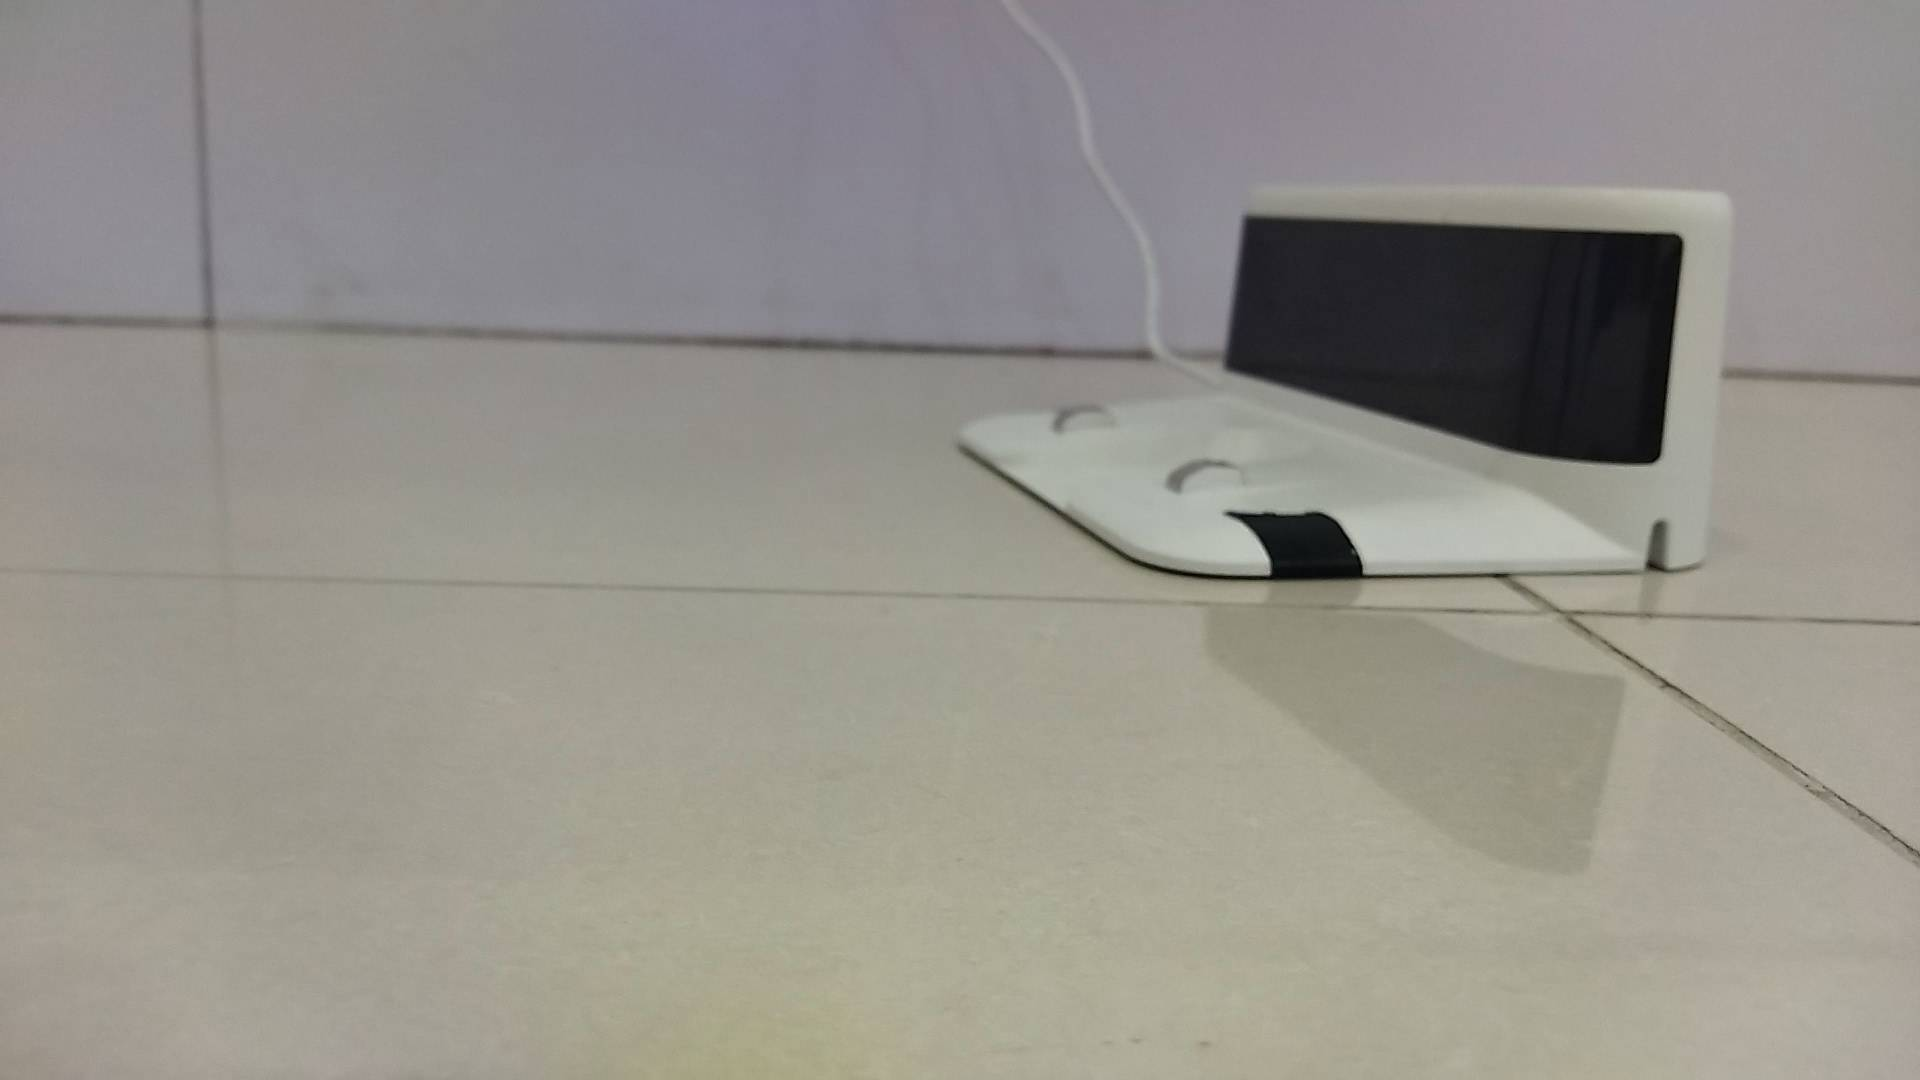recharge seat: (957, 181, 1737, 579)
